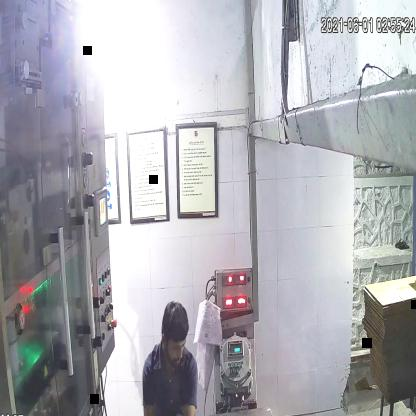no_goggles: (162, 332, 186, 355)
